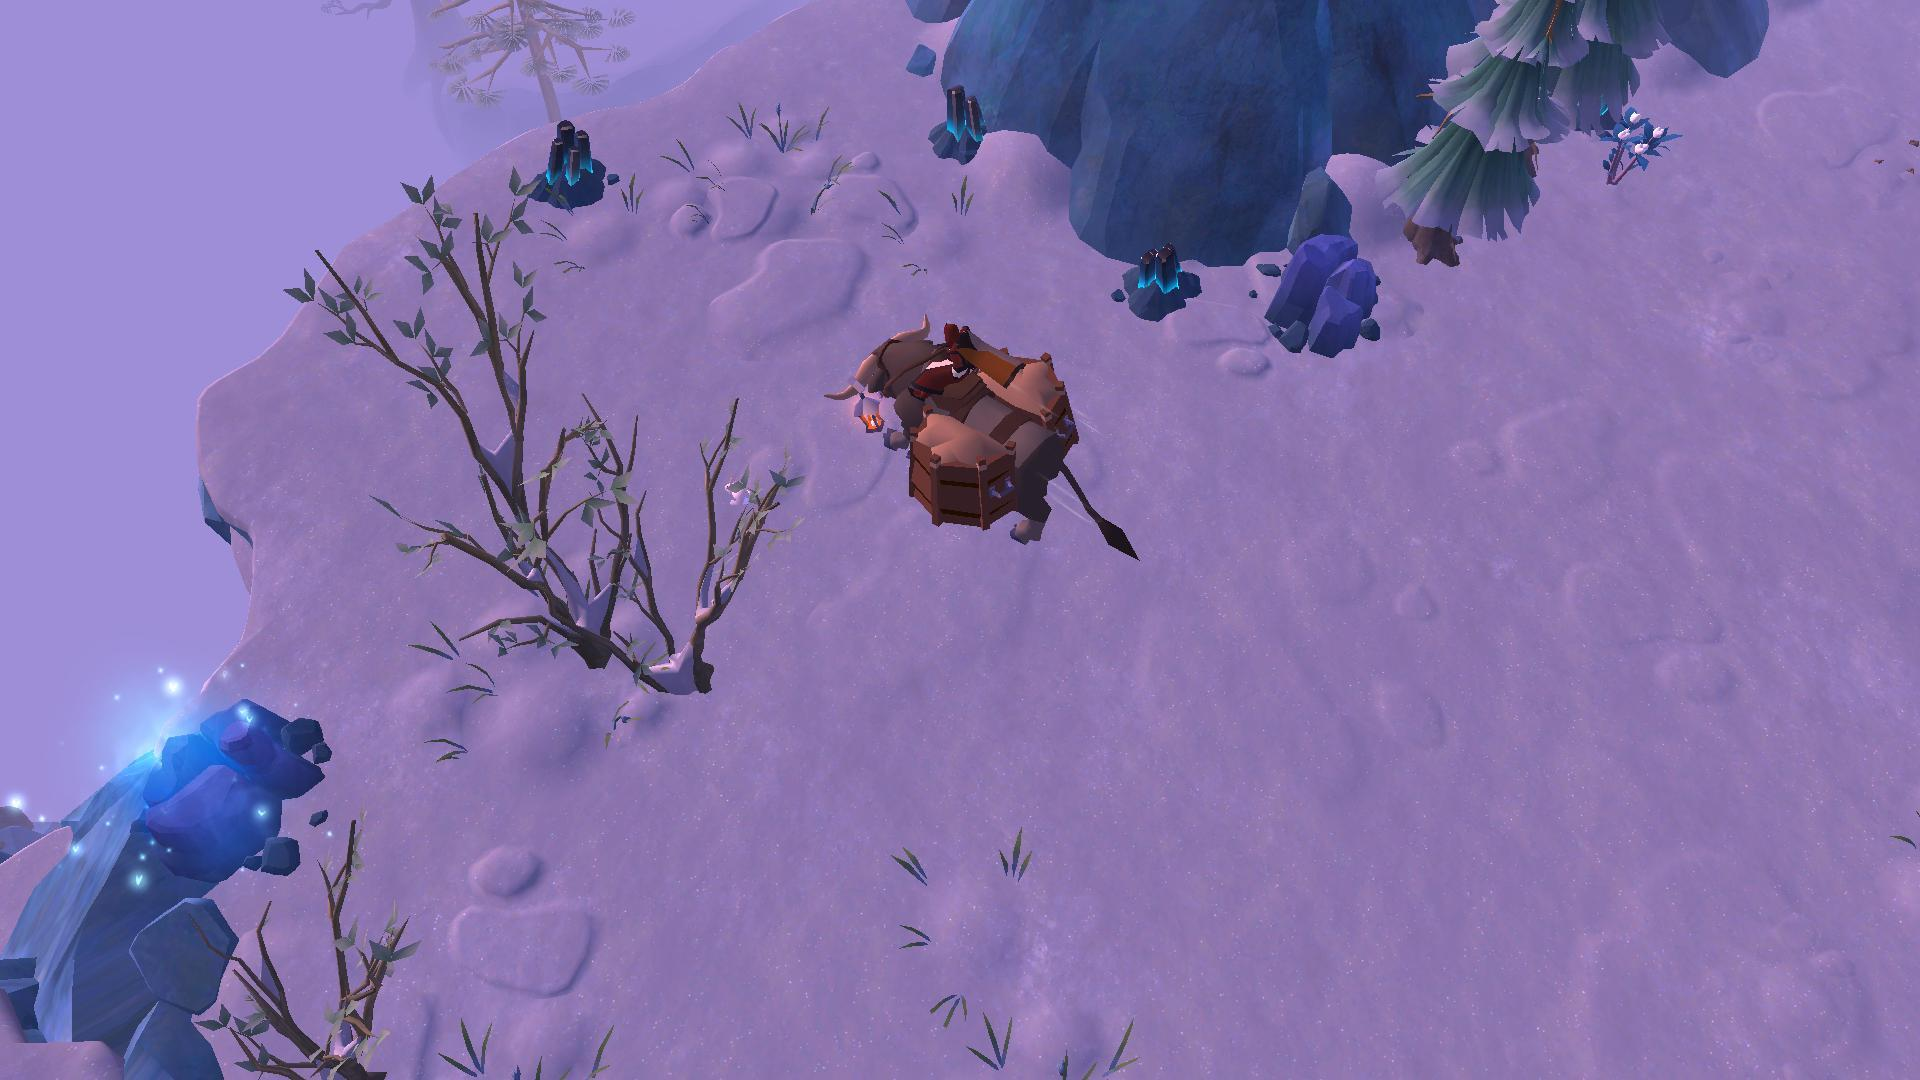fiber_t4: (1580, 104, 1675, 191)
ore_t4: (542, 115, 599, 194), (1125, 239, 1189, 295), (931, 78, 985, 145)
rock_t4: (138, 696, 324, 884), (1254, 225, 1378, 369)
